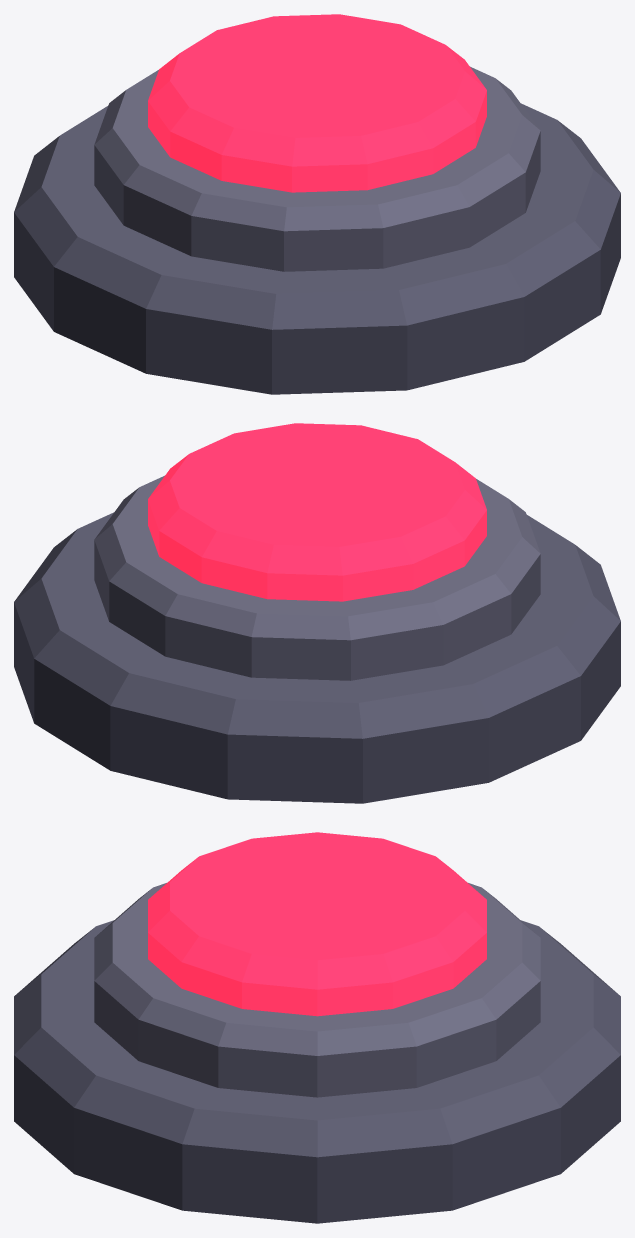
File: LockButton.glb
3 renders of one model, top to bottom at view 1: azimuth 30°, elevation 25°; view 2: azimuth 150°, elevation 25°; view 3: azimuth 270°, elevation 25°, orthographic. The views are drawn at different scales.
Parts seen in each view (by area): view 1: LockButton, LockButton_Glow_laser; view 2: LockButton, LockButton_Glow_laser; view 3: LockButton, LockButton_Glow_laser.
Part boxes in pixels (box(x1,y1,x2,y2)): LockButton: box(14, 66, 620, 394); LockButton_Glow_laser: box(148, 14, 486, 192); LockButton: box(14, 475, 620, 803); LockButton_Glow_laser: box(148, 423, 486, 601); LockButton: box(14, 883, 620, 1223); LockButton_Glow_laser: box(148, 832, 486, 1016).
Bounding box in the file's own units: 3.4 × 1.18 × 3.31.
2 materials, 1 textured.
